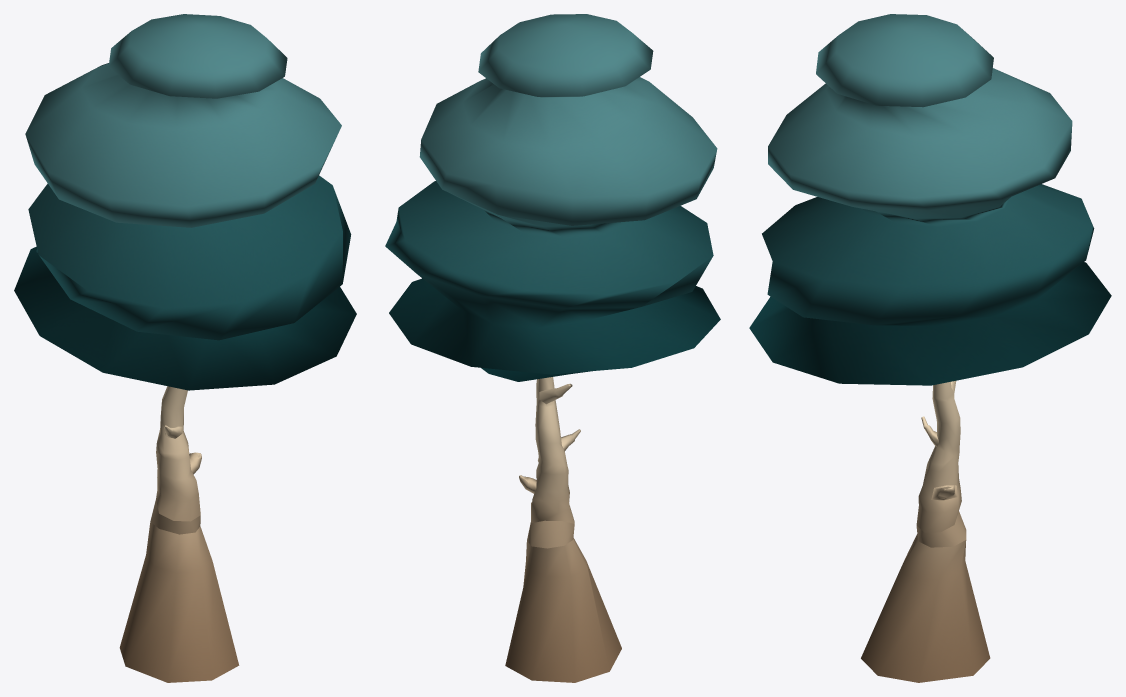
File: PINETREE02.fbx
3 renders of one model, left to right at view 1: azimuth 30°, elevation 25°; view 2: azimuth 150°, elevation 25°; view 3: azimuth 270°, elevation 25°, orthographic. The views are drawn at different scales.
Visible parts, largest first — view 1: TREE_MAIN_LEAVES, PINETREE02; view 2: TREE_MAIN_LEAVES, PINETREE02; view 3: TREE_MAIN_LEAVES, PINETREE02.
Boxes of the visible parts, x1,y1,x2,y2 form: TREE_MAIN_LEAVES: (14, 14, 356, 390); PINETREE02: (119, 386, 239, 682); TREE_MAIN_LEAVES: (385, 14, 720, 381); PINETREE02: (505, 377, 621, 682); TREE_MAIN_LEAVES: (749, 14, 1111, 385); PINETREE02: (861, 381, 990, 682).
Bounding box in the file's own units: 3.28 × 6.85 × 3.55.
